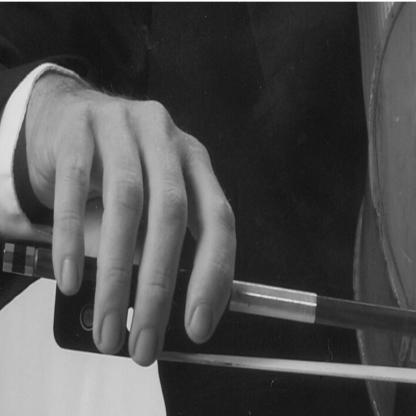good: (35, 88, 247, 374)
